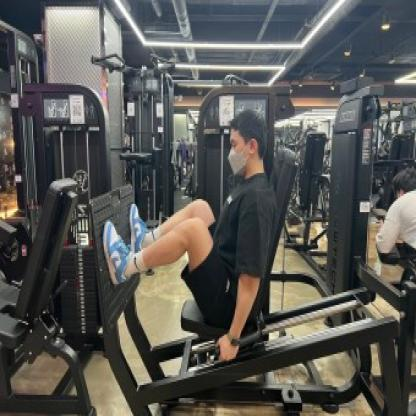leg press: (77, 76, 407, 416)
